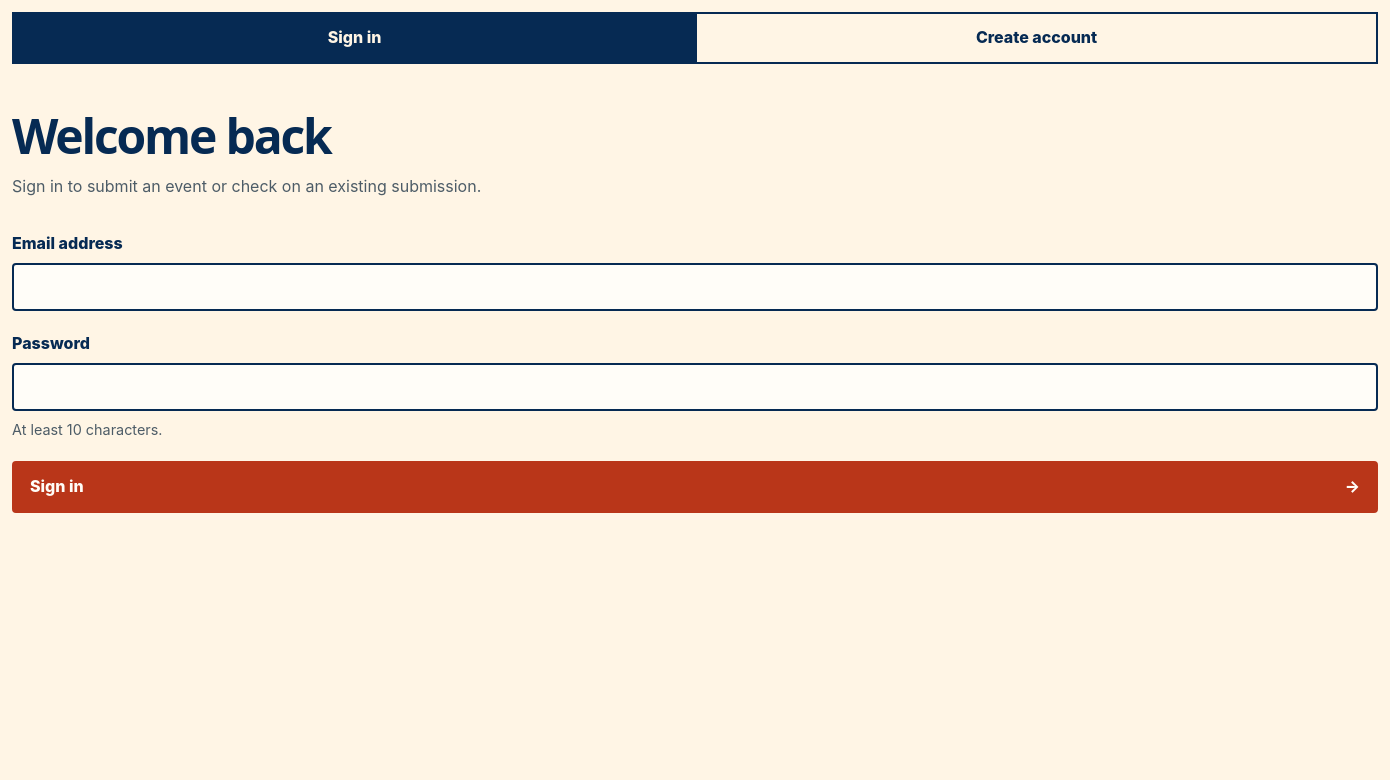
Test: AuthForm › focuses and associates a password error returned by the account service
Type "person@example.com" into the field labelled "Email address" at (695, 287), box [12,263,1378,311]
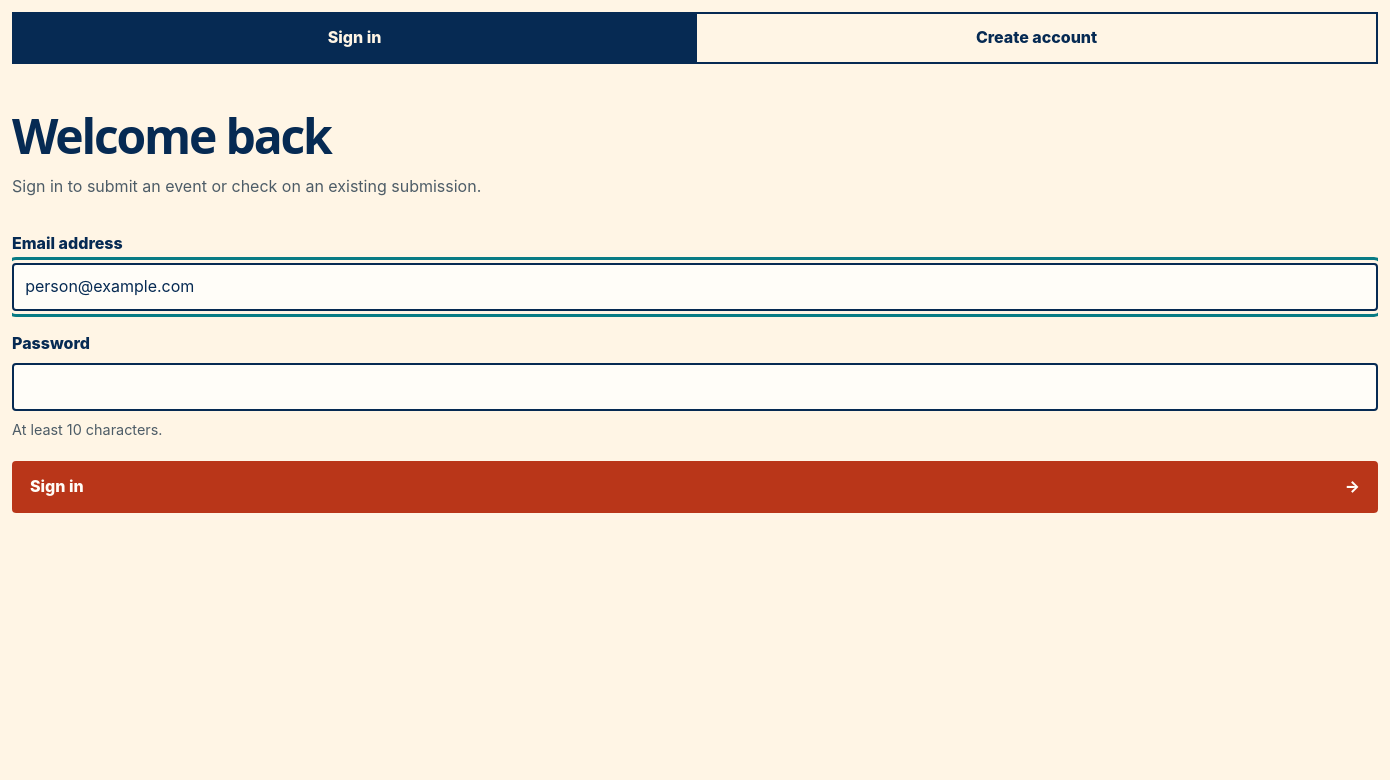
Type "correct horse" into the password field labelled "Password" at (695, 387), box [12,363,1378,411]
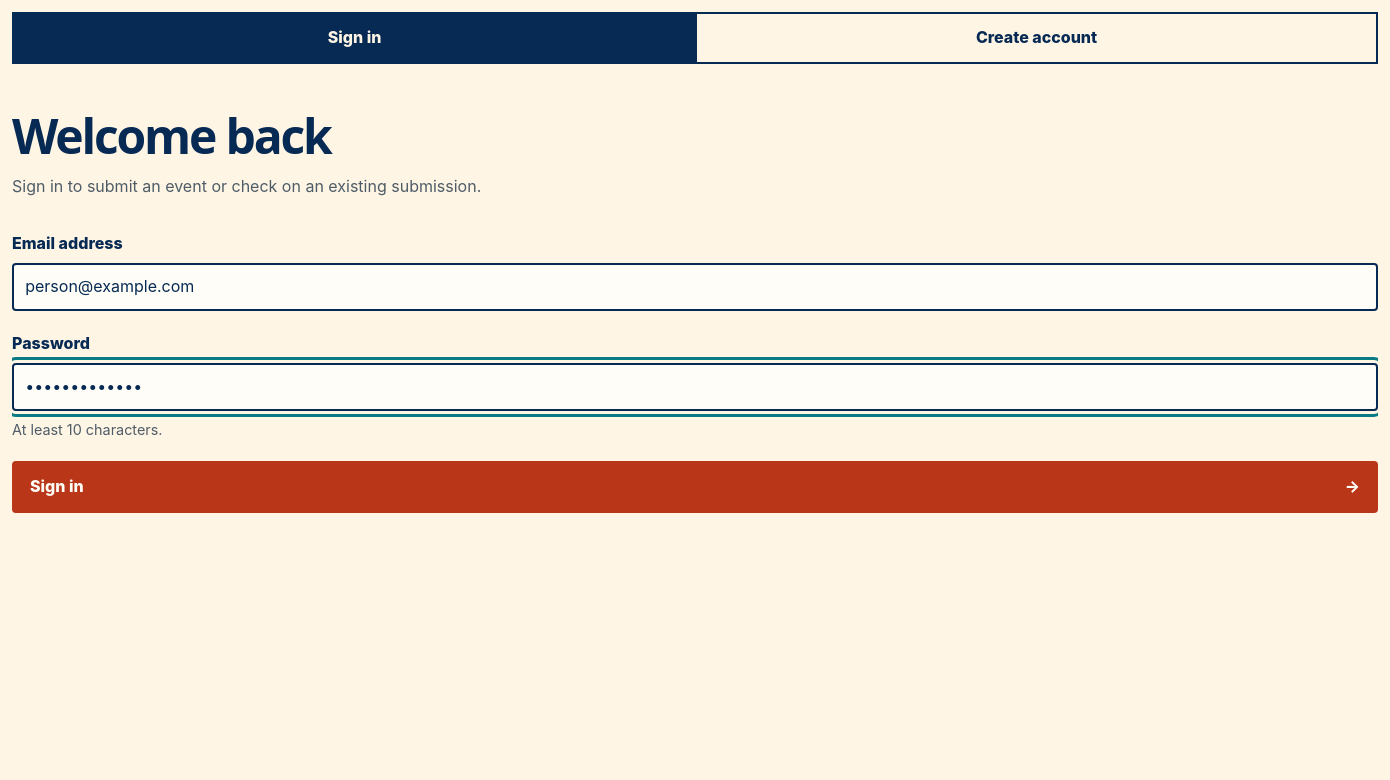
Click the button "Sign in →" at (57, 486), box [12,461,1378,513]
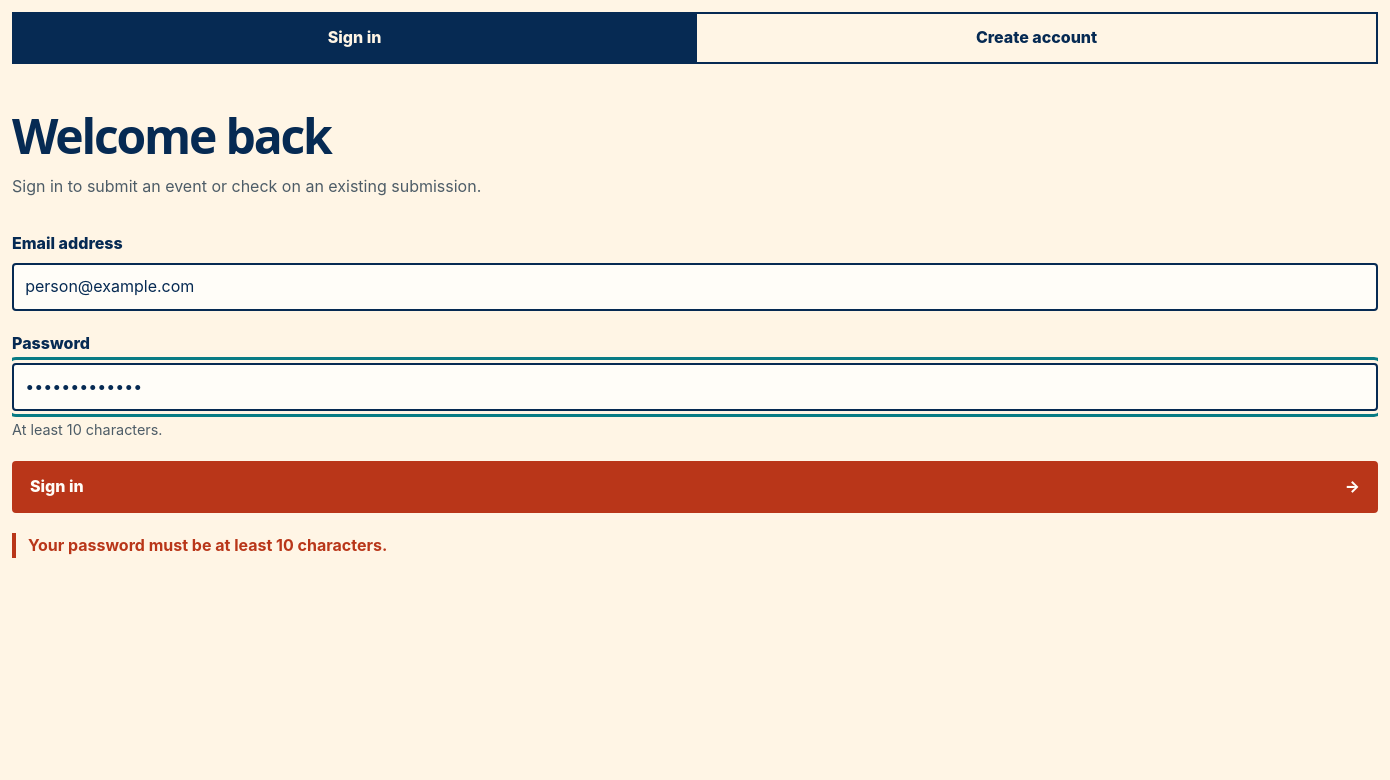
Now the message reads "Your password must be at least 10 characters.", box [28,535,387,555]
